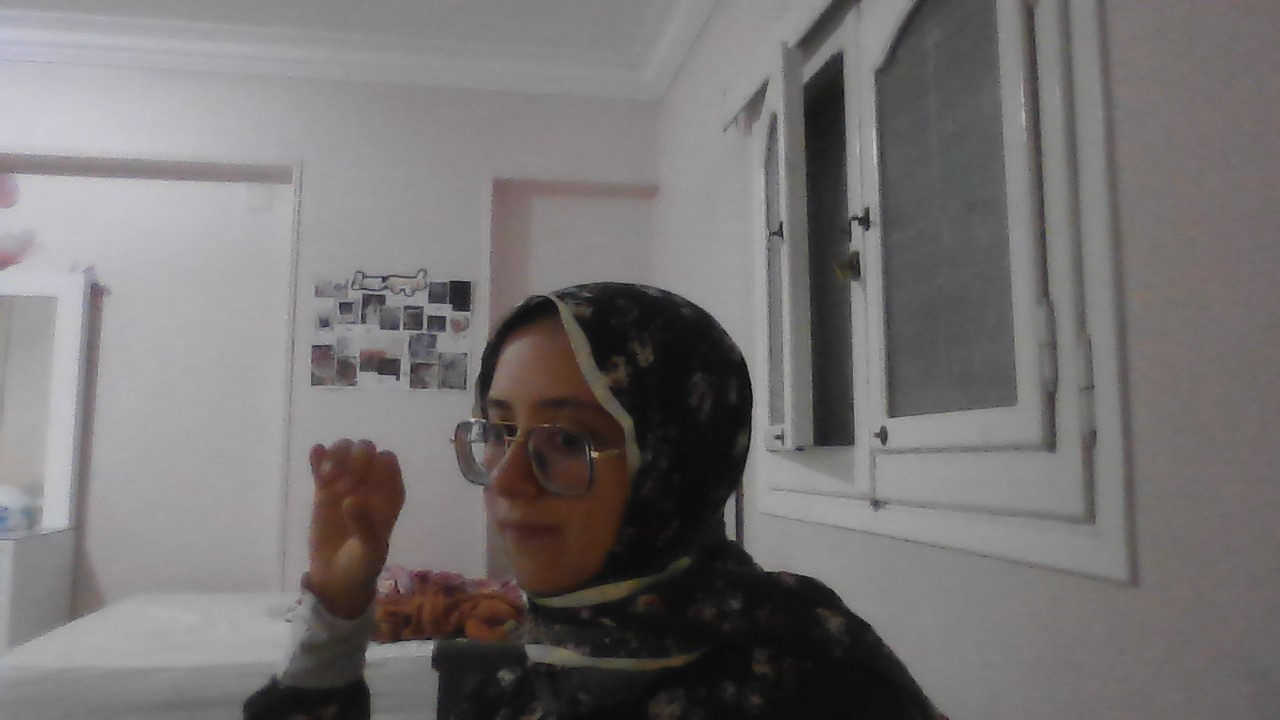okay: (292, 414, 415, 637)
